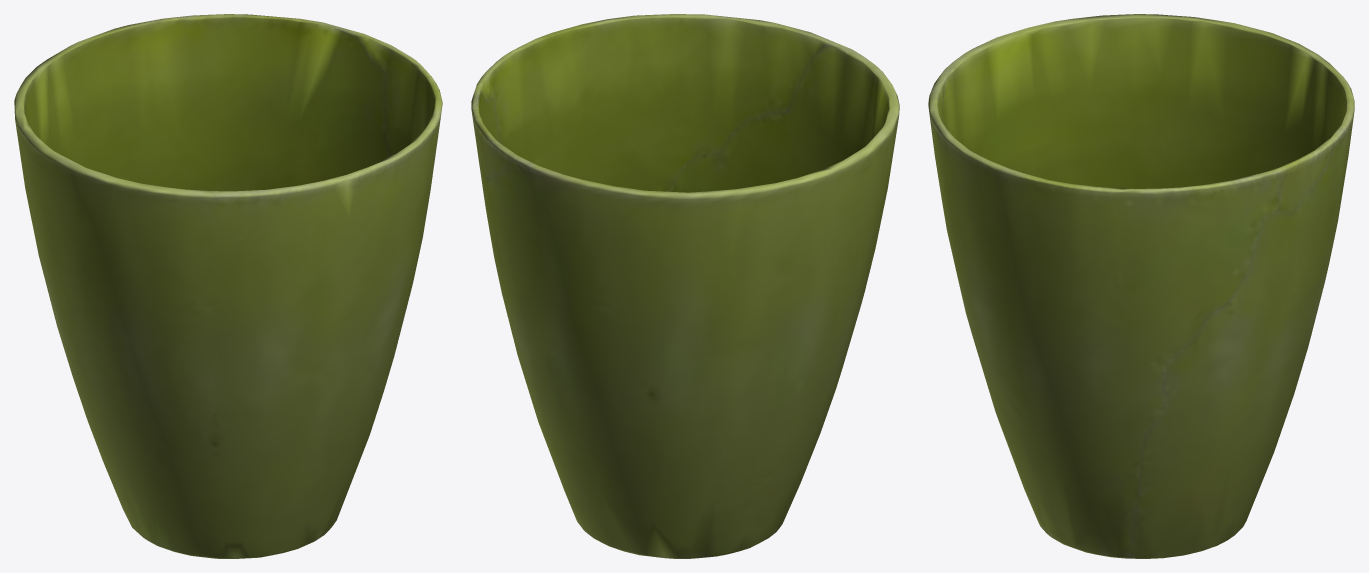
File: Ecoforms_Plant_Container_Urn_55_Avocado-high.glb
The picture shows the model from 3 angles, left to right: view 1: azimuth 30°, elevation 25°; view 2: azimuth 150°, elevation 25°; view 3: azimuth 270°, elevation 25°; orthographic projection.
Parts seen in each view (by area): view 1: Ecoforms_Plant_Container_Urn_55_Avocado; view 2: Ecoforms_Plant_Container_Urn_55_Avocado; view 3: Ecoforms_Plant_Container_Urn_55_Avocado.
Boxes of the visible parts, x1,y1,x2,y2 form: Ecoforms_Plant_Container_Urn_55_Avocado: [14, 14, 442, 558]; Ecoforms_Plant_Container_Urn_55_Avocado: [471, 14, 899, 558]; Ecoforms_Plant_Container_Urn_55_Avocado: [928, 14, 1354, 558].
Bounding box in the file's own units: 0.1495 × 0.1599 × 0.1489.
Materials: 1 (1 with a texture image).
